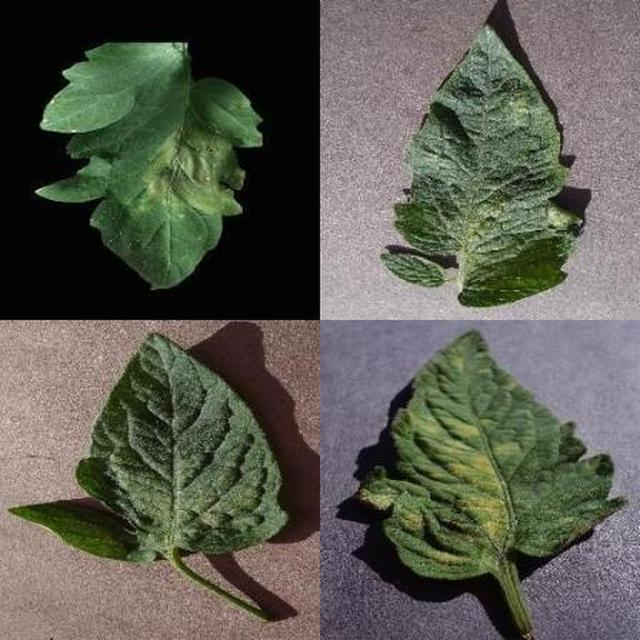Late Blight Leaf: (208, 234, 640, 640)
